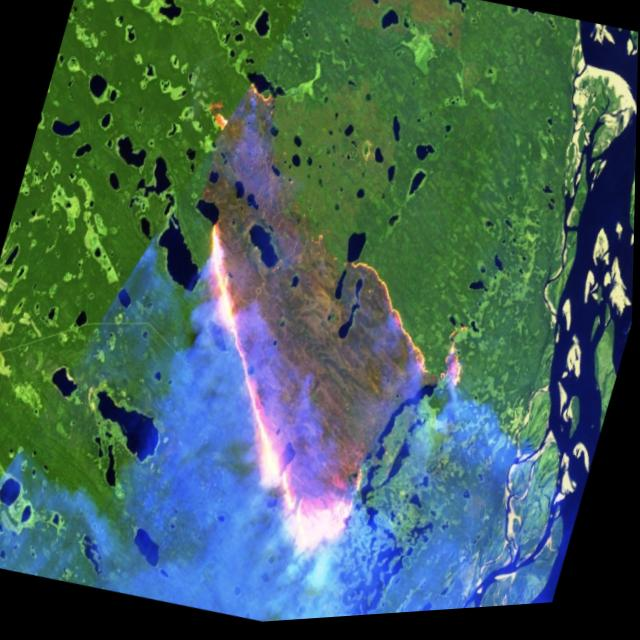fire: (124, 203, 495, 603), (205, 64, 282, 156)
